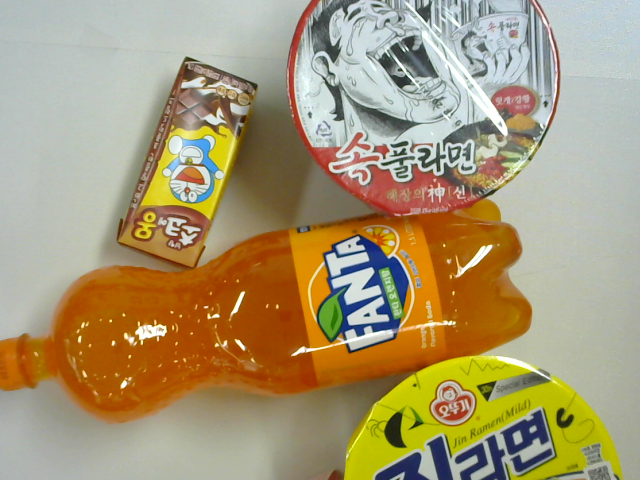Choco_E_Mong: (112, 60, 265, 272)
Hejangpul: (292, 1, 548, 198)
Hwanta_Orange_1.5L: (1, 205, 537, 417)
Jinlamyeon_Mild_Taste_Large_Cup: (318, 348, 622, 480)
